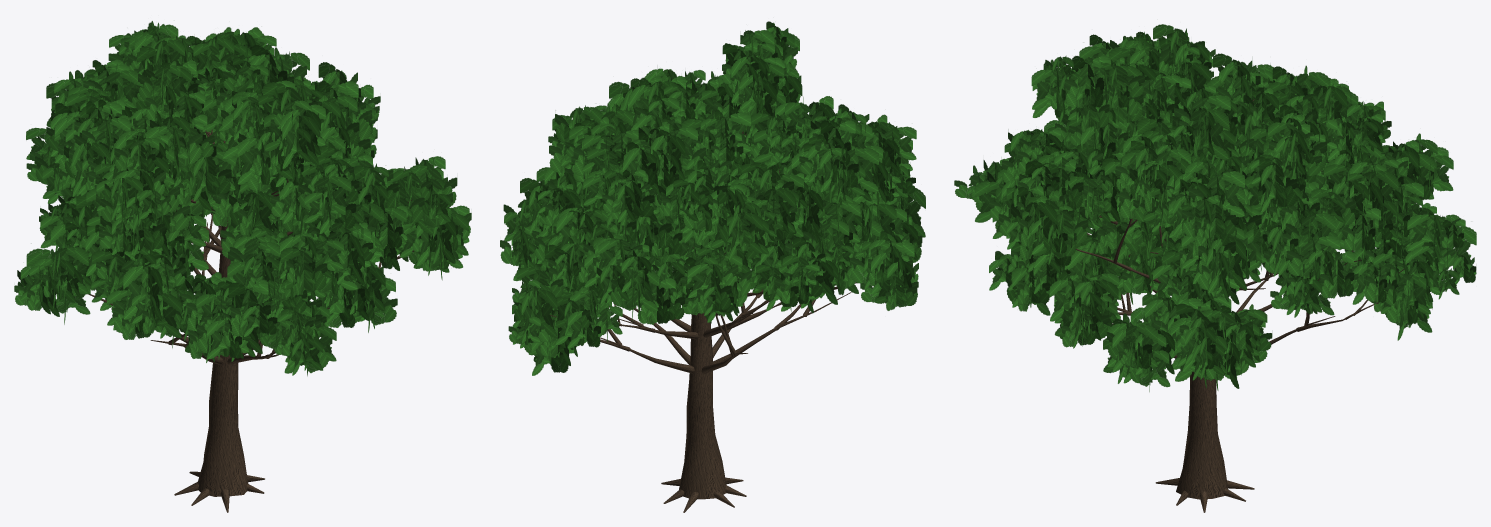
The model's file is oak_lod1.glb.
The picture shows the model from 3 angles, left to right: view 1: azimuth 30°, elevation 25°; view 2: azimuth 150°, elevation 25°; view 3: azimuth 270°, elevation 25°; orthographic projection. The views are drawn at different scales.
Visible parts, largest first — view 1: oak_lod0_leaves, oak_lod0_wood; view 2: oak_lod0_leaves, oak_lod0_wood; view 3: oak_lod0_leaves, oak_lod0_wood.
Part boxes in pixels (box(x1,y1,x2,y2)): oak_lod0_leaves: box(14, 21, 471, 376); oak_lod0_wood: box(88, 112, 414, 512); oak_lod0_leaves: box(500, 21, 925, 375); oak_lod0_wood: box(548, 131, 856, 512); oak_lod0_leaves: box(954, 24, 1476, 391); oak_lod0_wood: box(1075, 99, 1404, 512).
Size of the model in its own units: 22.01 by 21.88 by 23.49.
Materials: 2 (2 with a texture image).
